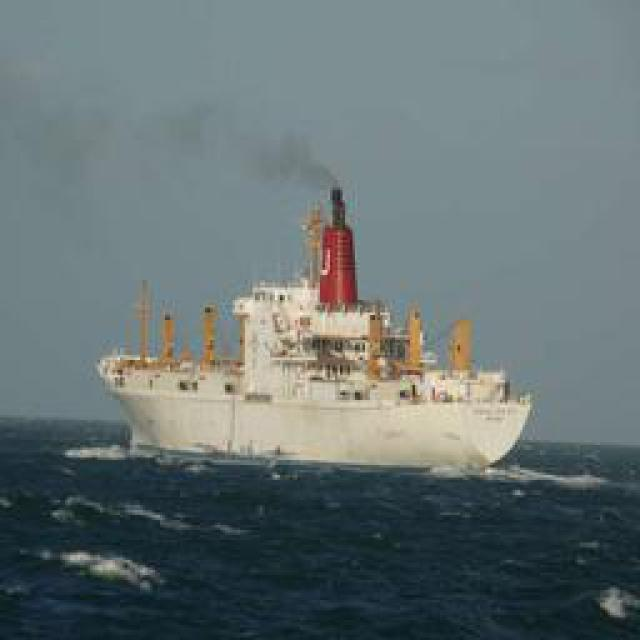Ship: (102, 176, 540, 476)
